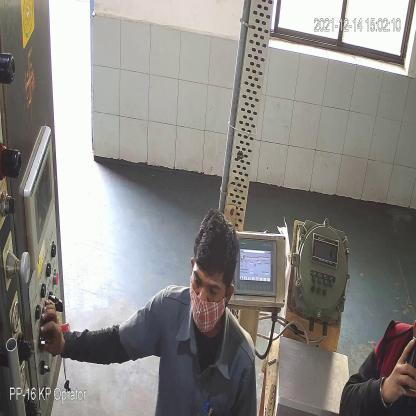no_goggles: (190, 272, 224, 300)
